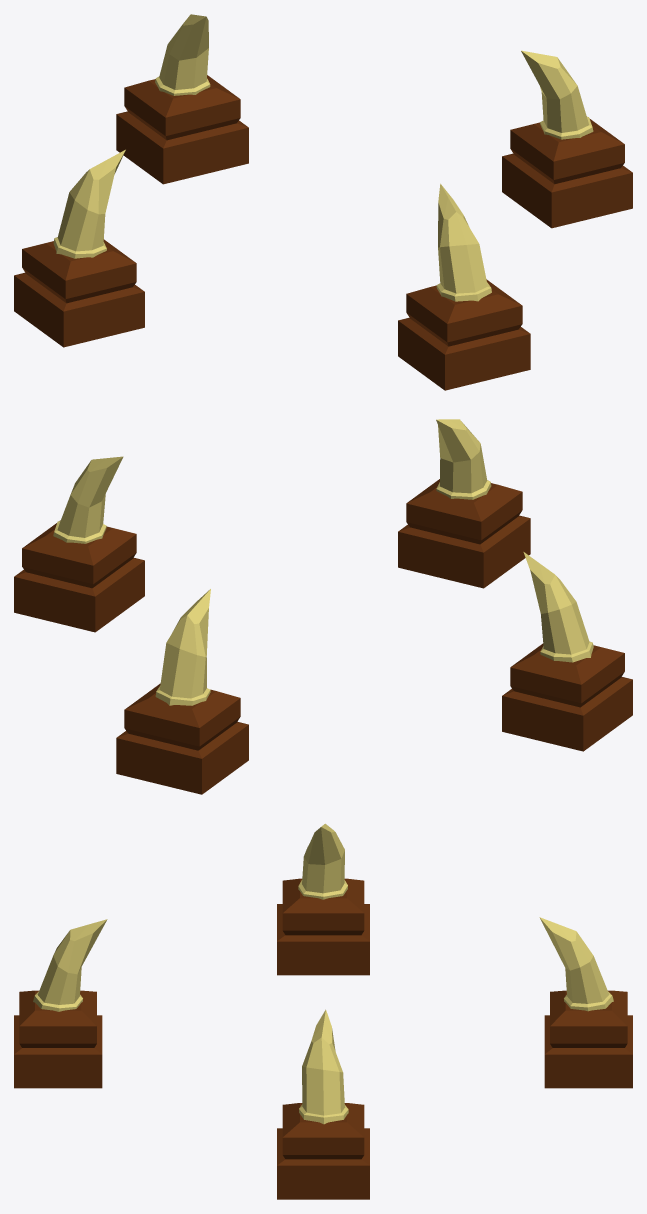
Rendered from altar_t.FBX.
3 views of the same model, one above another, from view 1: azimuth 30°, elevation 25°; view 2: azimuth 150°, elevation 25°; view 3: azimuth 270°, elevation 25° (orthographic). The views are drawn at different scales.
Visible parts, largest first — view 1: Object001; view 2: Object001; view 3: Object001.
Part boxes in pixels (x1,y1,x2,y2): Object001: (14,14,632,390); Object001: (14,419,632,794); Object001: (14,823,632,1199).
Bounding box in the file's own units: 17.39 × 4.67 × 17.39.
